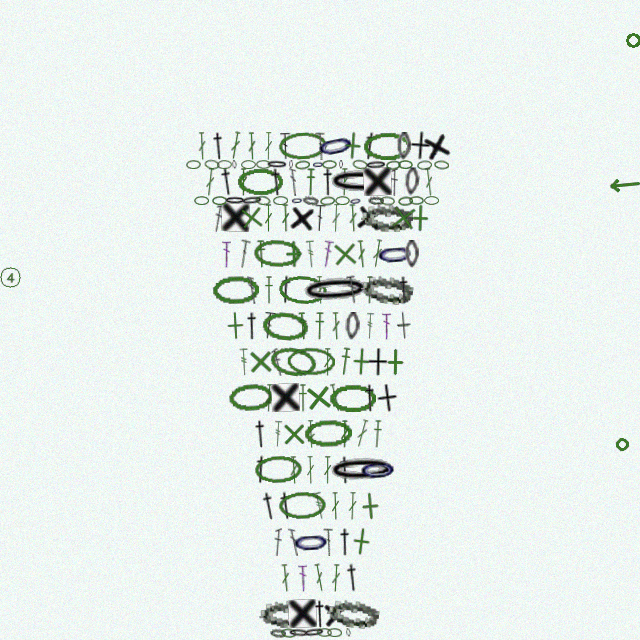chain: (300, 274, 371, 306), (327, 455, 397, 485), (327, 168, 397, 196), (268, 344, 319, 379), (326, 597, 380, 630), (360, 273, 414, 306), (259, 598, 312, 629), (261, 310, 310, 342), (278, 274, 327, 305), (361, 203, 413, 232), (314, 128, 357, 163), (278, 131, 327, 161), (228, 382, 275, 413), (278, 491, 327, 520), (253, 239, 302, 268), (254, 455, 302, 484), (304, 419, 352, 448), (287, 347, 335, 376), (212, 275, 259, 304), (363, 132, 411, 160), (329, 384, 376, 412), (237, 168, 284, 196), (291, 527, 331, 557), (375, 239, 415, 269), (358, 455, 398, 484), (404, 167, 420, 196), (345, 312, 360, 340), (405, 240, 419, 268), (397, 132, 411, 160), (303, 627, 325, 638), (241, 195, 263, 206), (288, 628, 310, 638), (365, 160, 387, 170), (224, 196, 246, 205), (266, 160, 288, 169), (302, 195, 319, 206), (255, 195, 271, 206), (204, 159, 220, 170), (352, 159, 368, 170), (270, 628, 286, 638), (281, 628, 296, 638), (320, 196, 335, 206), (380, 196, 395, 206), (398, 196, 413, 206), (295, 160, 310, 170), (386, 160, 401, 170), (417, 160, 432, 170), (434, 160, 449, 170), (368, 196, 384, 205), (317, 628, 332, 637), (327, 628, 342, 637), (194, 196, 209, 205), (212, 196, 227, 205), (273, 196, 288, 205), (335, 196, 350, 205), (409, 196, 424, 205), (424, 196, 439, 205), (186, 160, 201, 169), (217, 160, 232, 169), (241, 160, 256, 169), (256, 160, 271, 169), (322, 160, 337, 169), (398, 160, 413, 169), (349, 196, 362, 206), (291, 196, 303, 205), (312, 160, 324, 169), (346, 628, 351, 637), (232, 160, 237, 169), (289, 160, 293, 169), (339, 160, 343, 169)
double: (354, 419, 370, 448), (328, 383, 343, 412), (236, 239, 251, 268), (262, 311, 276, 340), (313, 563, 326, 592), (346, 275, 359, 304), (321, 239, 334, 268), (371, 239, 384, 268), (229, 131, 242, 160), (271, 348, 284, 376), (288, 528, 300, 556), (314, 204, 326, 232), (204, 168, 216, 196), (423, 168, 435, 196), (280, 564, 291, 592), (356, 240, 367, 268), (213, 204, 224, 232), (280, 132, 291, 160), (298, 564, 308, 592), (331, 564, 341, 592), (323, 528, 333, 556), (289, 456, 299, 484), (264, 384, 274, 412), (331, 312, 341, 340), (247, 276, 257, 304), (315, 276, 325, 304), (331, 204, 341, 232), (348, 204, 358, 232), (197, 132, 207, 160), (247, 132, 257, 160), (315, 132, 325, 160), (331, 492, 340, 520), (348, 492, 357, 520), (306, 456, 315, 484), (323, 456, 332, 484), (340, 420, 349, 448), (323, 348, 332, 376), (382, 312, 391, 340), (365, 276, 374, 304), (222, 240, 231, 268), (264, 204, 273, 232), (281, 204, 290, 232), (239, 168, 248, 196), (289, 168, 298, 196), (340, 168, 349, 196), (264, 132, 273, 160), (274, 528, 282, 556), (391, 168, 398, 196)
half_double: (259, 491, 279, 521), (360, 131, 380, 161), (277, 491, 295, 520), (252, 455, 270, 484), (277, 275, 295, 304), (218, 167, 236, 196), (344, 563, 361, 592), (252, 420, 269, 448), (268, 168, 285, 196), (210, 132, 227, 160), (312, 600, 328, 628), (337, 528, 353, 556), (337, 456, 353, 484), (362, 384, 378, 412), (244, 312, 260, 340), (396, 276, 412, 304), (320, 168, 336, 196), (338, 347, 352, 376), (296, 312, 309, 340), (255, 240, 267, 268), (372, 420, 383, 448), (314, 312, 325, 340), (305, 168, 316, 196), (298, 384, 308, 412), (264, 276, 274, 304)
noise: (0, 265, 23, 290), (607, 177, 640, 193), (624, 31, 640, 50), (614, 436, 631, 453)
single: (421, 129, 453, 163), (346, 526, 377, 557), (303, 382, 334, 413), (236, 202, 267, 233), (388, 202, 419, 233), (355, 491, 385, 521), (330, 239, 360, 269), (355, 202, 384, 233), (288, 203, 317, 233), (288, 599, 317, 628), (271, 383, 300, 412), (246, 347, 275, 376), (347, 347, 376, 376), (221, 311, 250, 340), (221, 203, 250, 232), (363, 167, 392, 196), (338, 131, 367, 160), (322, 599, 350, 629), (280, 420, 308, 448), (381, 348, 409, 376), (280, 240, 308, 268), (406, 204, 434, 232), (375, 383, 399, 413), (409, 131, 431, 160), (367, 348, 388, 376), (396, 311, 412, 340)
treble: (312, 491, 327, 520), (305, 240, 317, 268), (273, 420, 283, 448), (306, 420, 316, 448), (239, 348, 249, 376), (365, 312, 375, 340)
